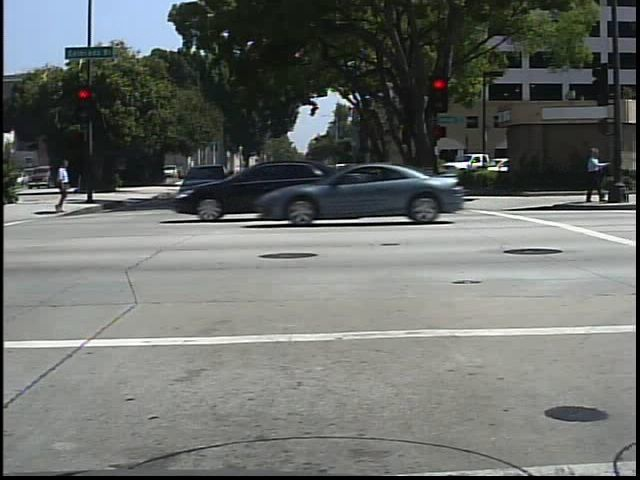person: (582, 144, 610, 207), (49, 157, 73, 216)
